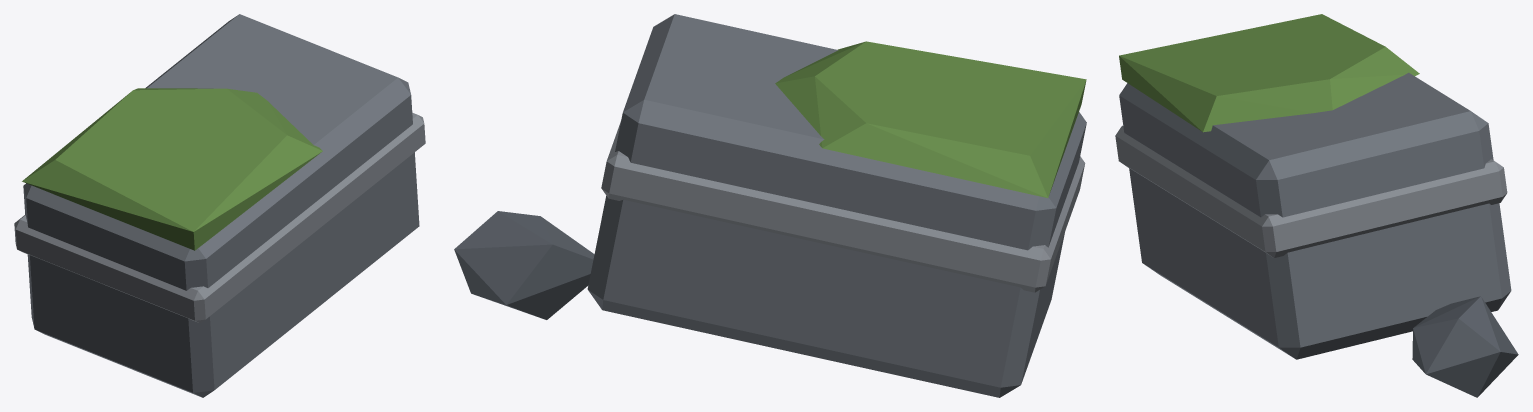
File: Ruin_Block.fbx
3 views of the same model, side by side, from view 1: azimuth 30°, elevation 25°; view 2: azimuth 150°, elevation 25°; view 3: azimuth 270°, elevation 25° (orthographic). The views are drawn at different scales.
Parts seen in each view (by area): view 1: Block, Moss, Band; view 2: Block, Moss, Band, Chunk; view 3: Block, Moss, Band, Chunk.
Boxes of the visible parts, x1,y1,x2,y2 form: Block: [23, 14, 419, 397]; Moss: [22, 88, 322, 250]; Band: [14, 112, 425, 322]; Block: [587, 14, 1086, 397]; Moss: [775, 41, 1086, 197]; Band: [601, 121, 1085, 292]; Chunk: [454, 211, 594, 319]; Block: [1119, 72, 1511, 359]; Moss: [1119, 14, 1419, 132]; Band: [1115, 125, 1507, 257]; Chunk: [1412, 296, 1518, 397].
Bounding box in the file's own units: 3.24 × 1.7 × 2.39.
